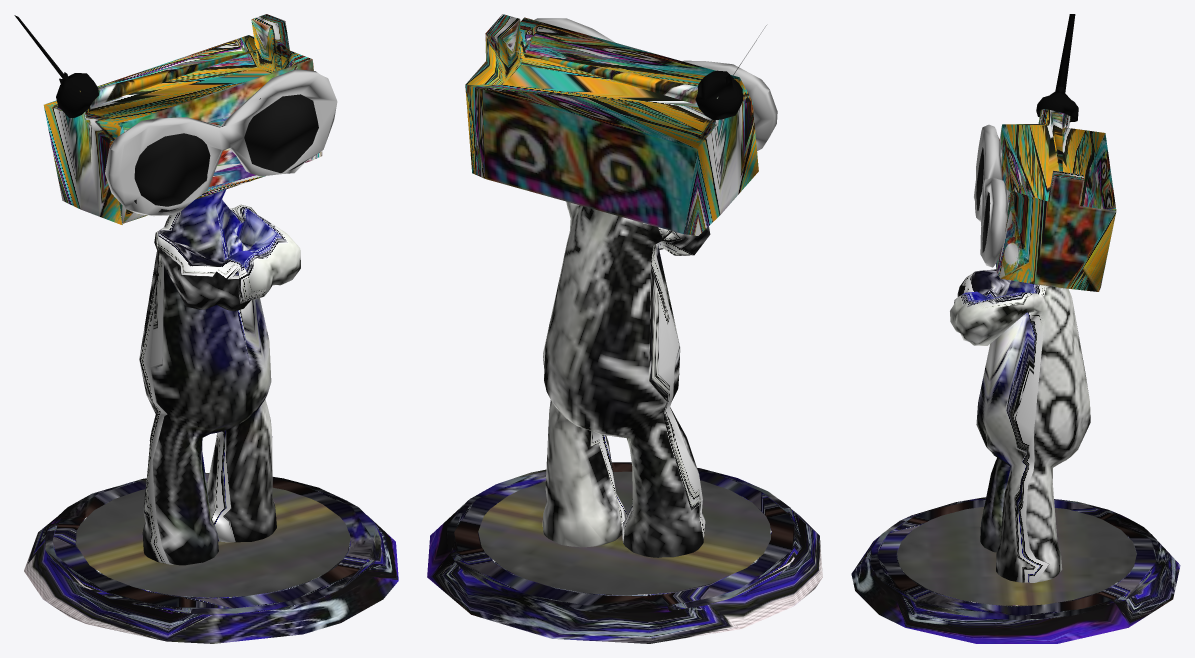
3 views of the same model, side by side, from view 1: azimuth 30°, elevation 25°; view 2: azimuth 150°, elevation 25°; view 3: azimuth 270°, elevation 25° (orthographic). The views are drawn at different scales.
Size of the model in its own units: 1.43 by 2.38 by 1.44.
Materials: 8 (4 with a texture image).
